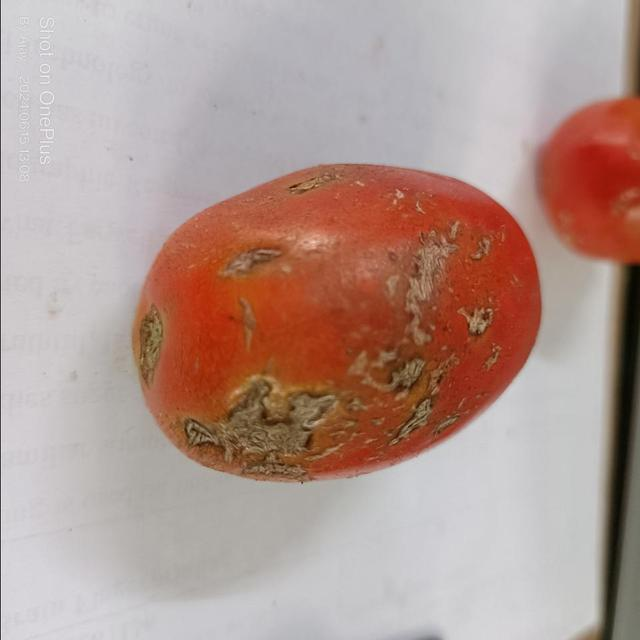Bacterial Spot Fruit: (24, 22, 319, 286)
